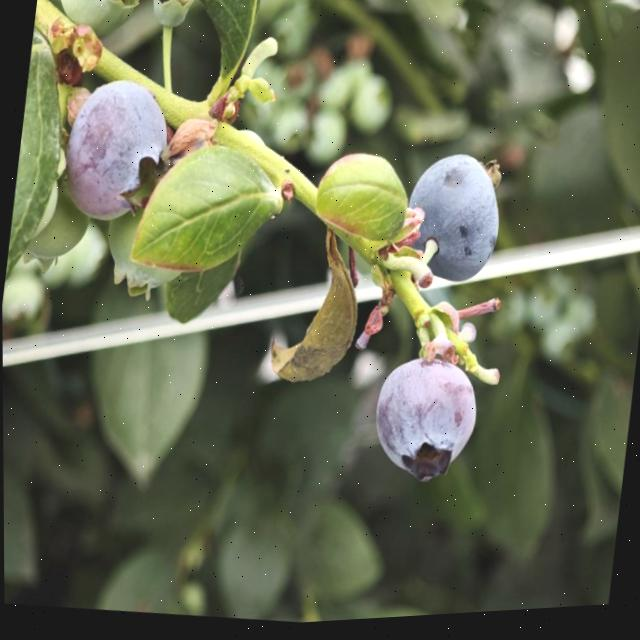RipeBlueBerry: (60, 72, 175, 229), (369, 357, 482, 495), (403, 151, 506, 296)
